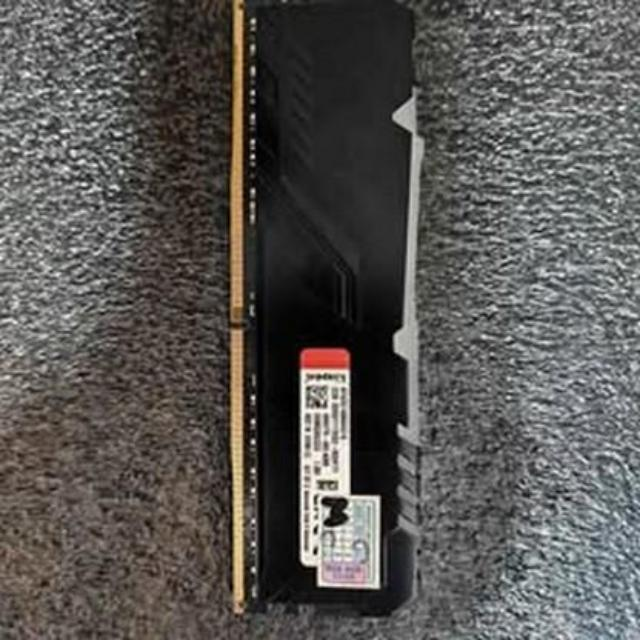RAM: (218, 0, 430, 620)
